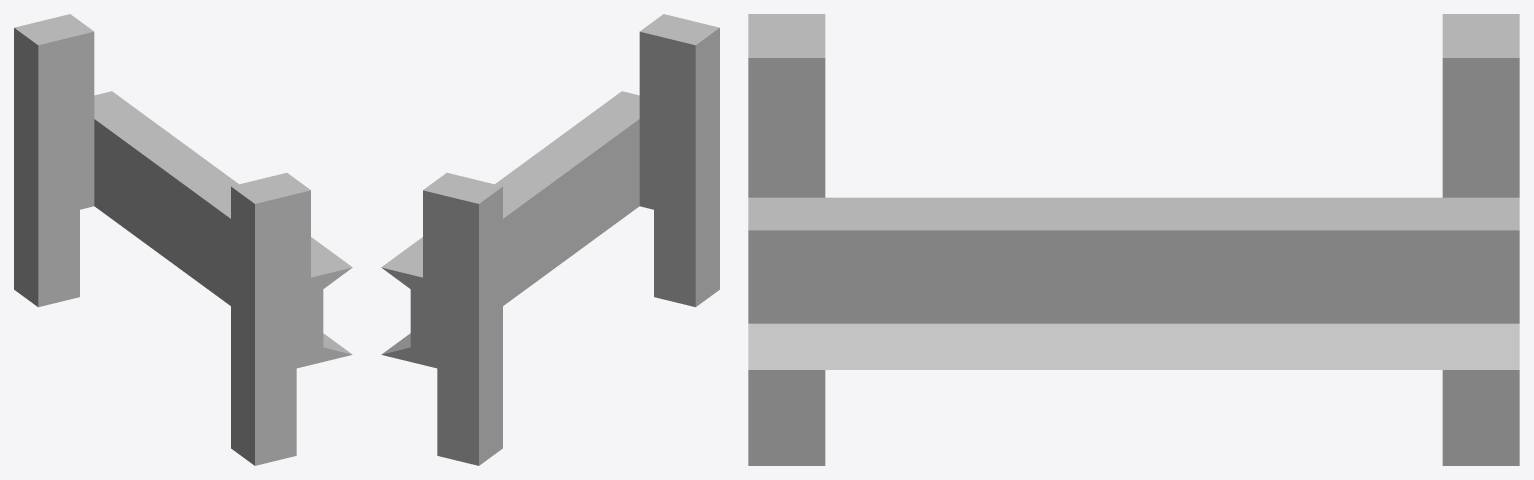
File: guard_gray_no.fbx
The picture shows the model from 3 angles, left to right: view 1: azimuth 30°, elevation 25°; view 2: azimuth 150°, elevation 25°; view 3: azimuth 270°, elevation 25°; orthographic projection. The views are drawn at different scales.
Visible parts, largest first — view 1: Cube.063; view 2: Cube.063; view 3: Cube.063.
Boxes of the visible parts, x1,y1,x2,y2 form: Cube.063: (14,14,352,465); Cube.063: (381,14,719,465); Cube.063: (748,14,1519,465).
Bounding box in the file's own units: 117 × 300 × 500.
1 material, 1 textured.
